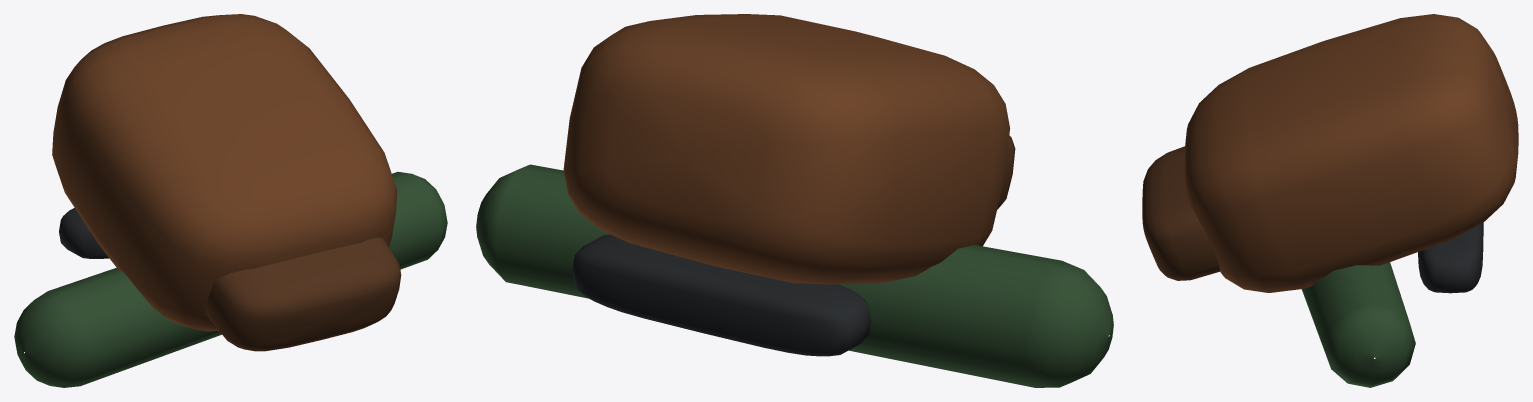
The model's file is abandoned_pack.glb.
3 views of the same model, side by side, from view 1: azimuth 30°, elevation 25°; view 2: azimuth 150°, elevation 25°; view 3: azimuth 270°, elevation 25° (orthographic). The views are drawn at different scales.
Visible parts, largest first — view 1: abandoned_pack; view 2: abandoned_pack; view 3: abandoned_pack.
Boxes of the visible parts, box(x1,y1,x2,y2) form: abandoned_pack: box(14, 14, 447, 387); abandoned_pack: box(476, 14, 1113, 387); abandoned_pack: box(1142, 14, 1518, 387).
Bounding box in the file's own units: 0.6191 × 0.3422 × 0.4549.
